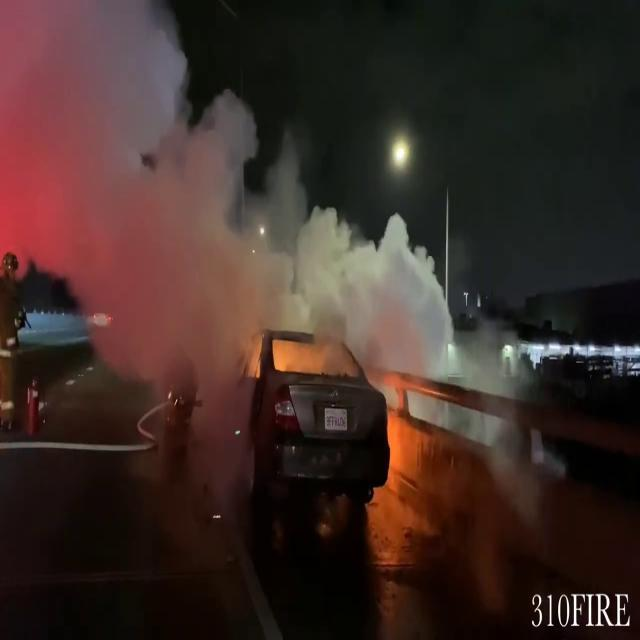Smoke: (0, 1, 428, 370)
